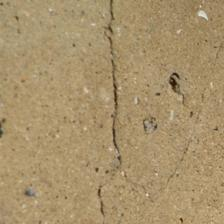Crack: (47, 4, 80, 219)
